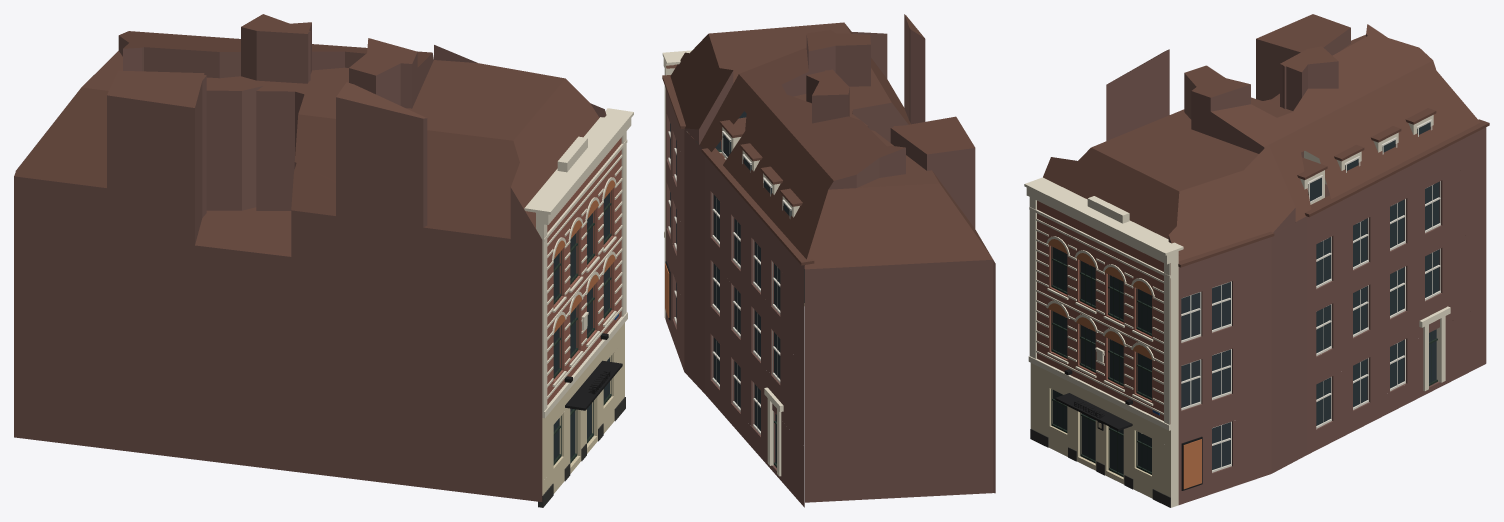
Rendered from bitterzoet.glb.
The picture shows the model from 3 angles, left to right: view 1: azimuth 30°, elevation 25°; view 2: azimuth 150°, elevation 25°; view 3: azimuth 270°, elevation 25°; orthographic projection. The views are drawn at different scales.
Visible parts, largest first — view 1: bitterzoet; view 2: bitterzoet; view 3: bitterzoet.
Boxes of the visible parts, x1,y1,x2,y2 form: bitterzoet: (14,14,633,507); bitterzoet: (662,14,995,507); bitterzoet: (1024,14,1489,507).
Bounding box in the file's own units: 26.72 × 20.19 × 24.95.
